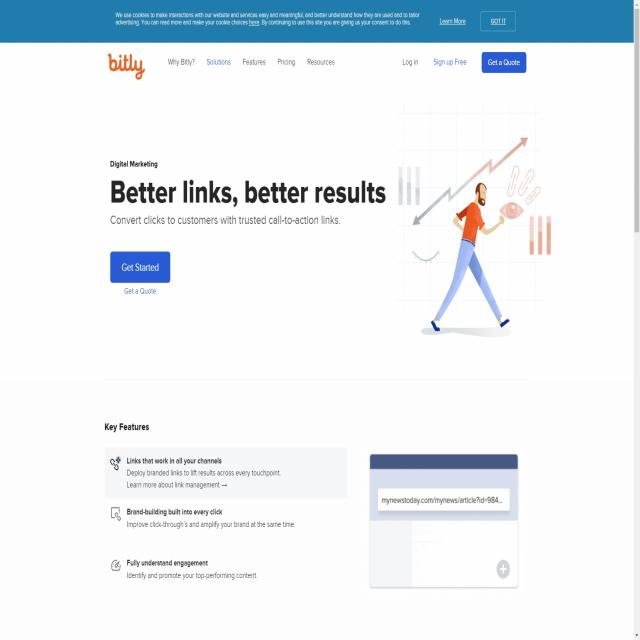menu-bar: (164, 49, 338, 73)
